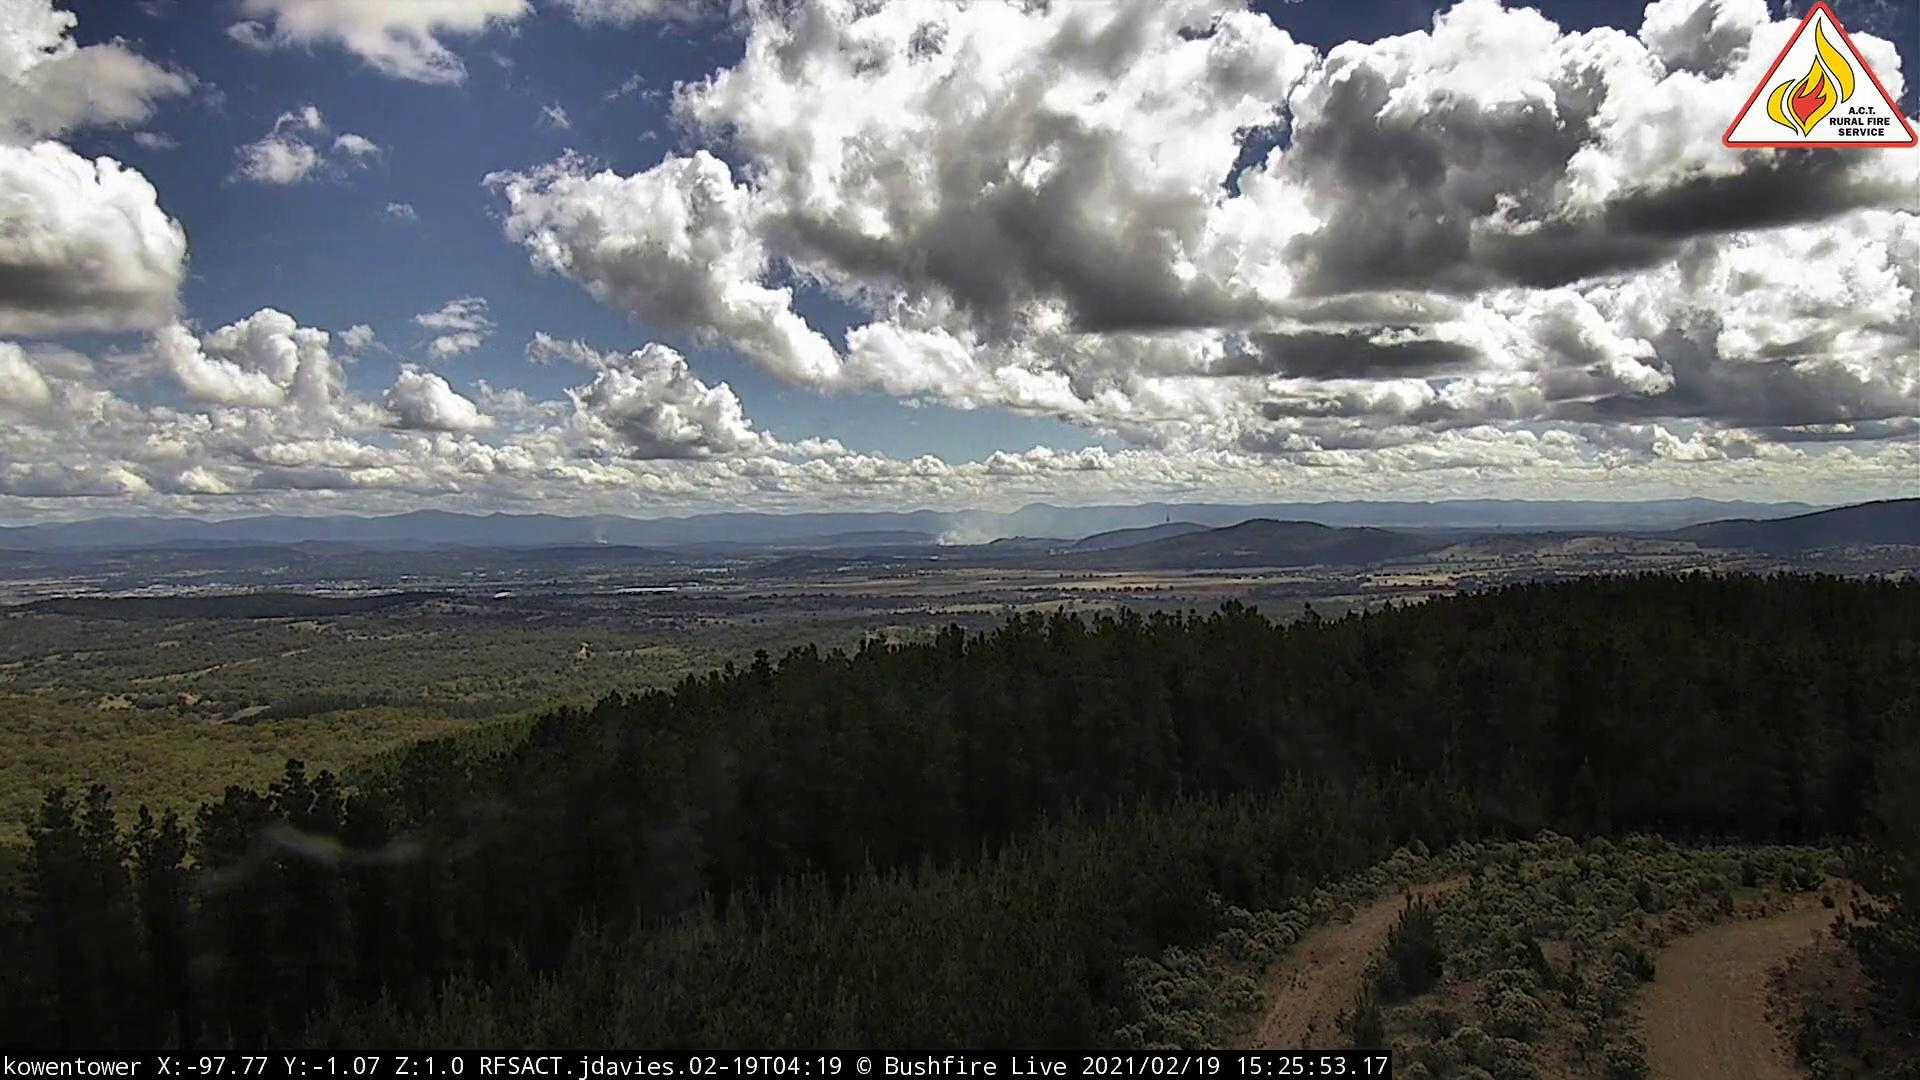Smoke: (938, 498, 1047, 554), (589, 527, 616, 553)
